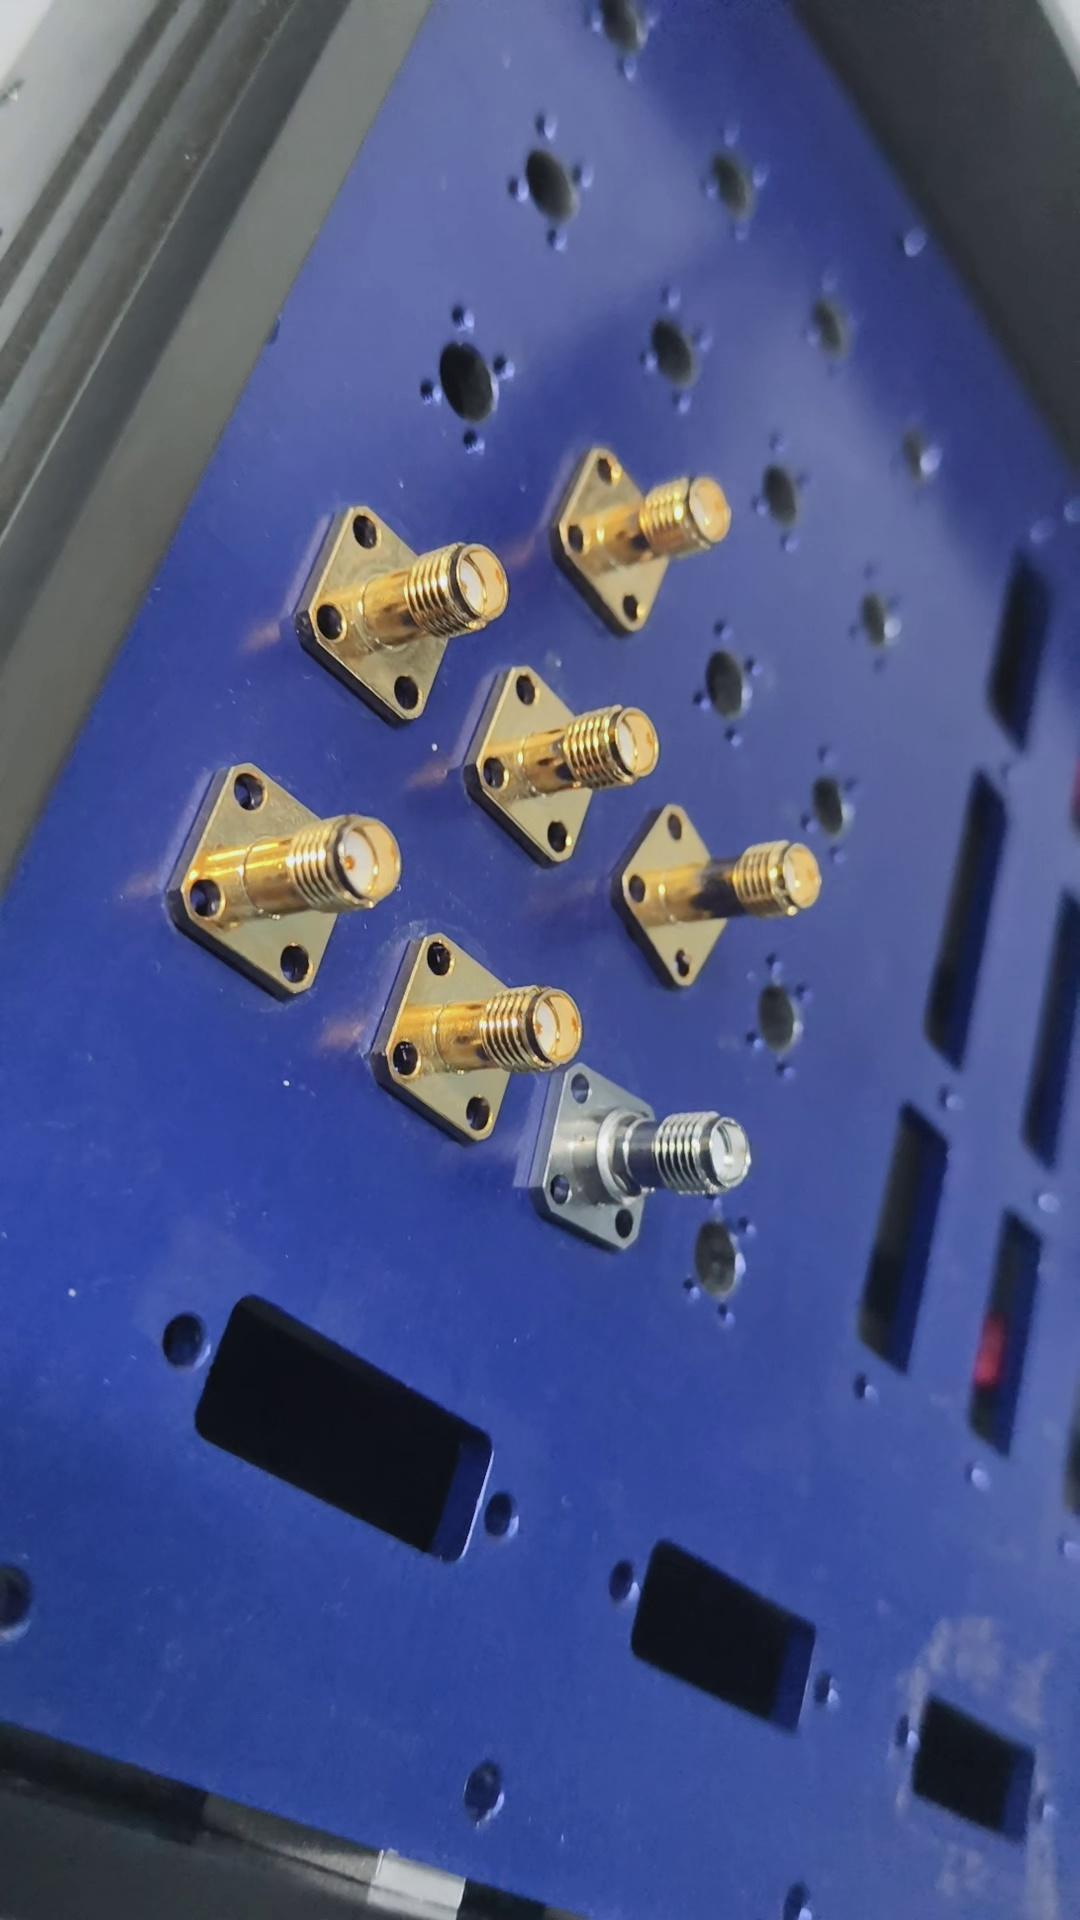SMA: (165, 762, 404, 998), (297, 502, 506, 731), (531, 1046, 760, 1254), (378, 930, 585, 1138), (463, 654, 661, 862), (622, 794, 823, 986), (559, 440, 737, 638)
